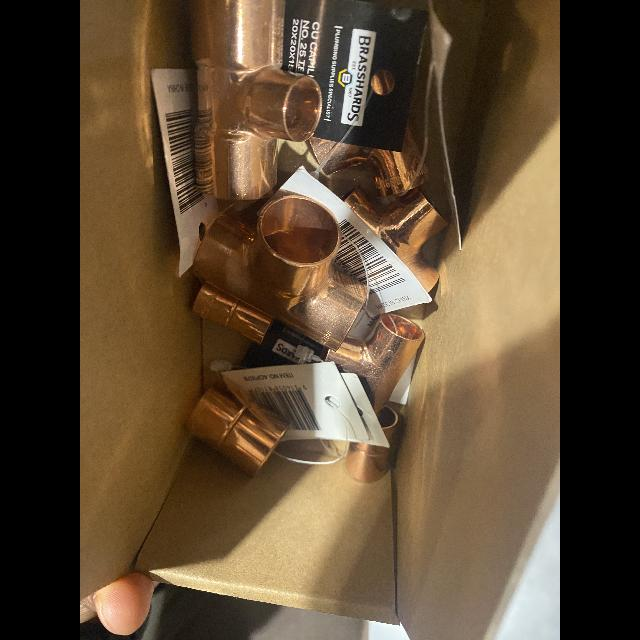Copper: (192, 195, 367, 352), (191, 0, 321, 200), (346, 187, 447, 292), (320, 313, 425, 413), (187, 380, 287, 476), (323, 126, 420, 194), (193, 282, 273, 344), (346, 442, 391, 483), (311, 139, 336, 162), (381, 410, 399, 441), (411, 166, 430, 189)
